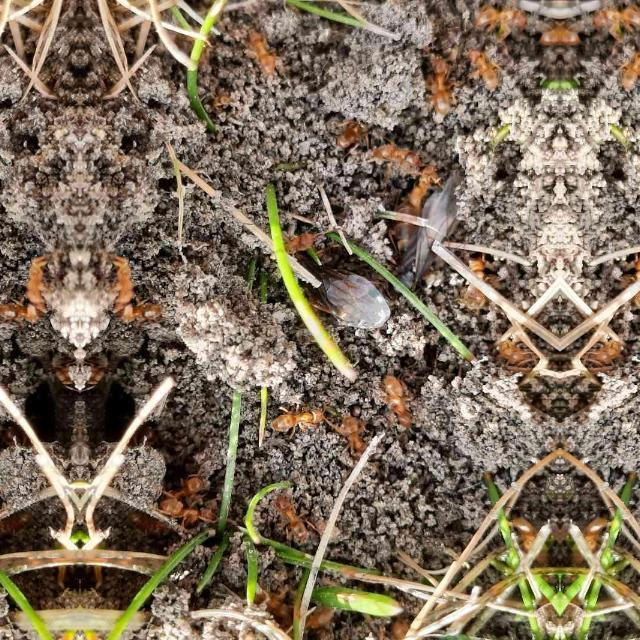Lasius: (290, 240, 396, 328), (258, 396, 328, 444), (375, 371, 421, 434), (270, 489, 316, 546), (458, 248, 498, 310), (262, 218, 318, 260), (237, 24, 281, 70), (110, 294, 164, 330), (492, 332, 540, 370), (578, 332, 626, 370), (467, 42, 501, 94), (164, 466, 206, 508), (425, 42, 455, 98), (336, 411, 372, 457), (0, 294, 48, 328), (29, 246, 56, 306), (160, 497, 212, 528), (102, 246, 128, 306), (406, 160, 438, 208), (618, 247, 640, 310), (466, 5, 522, 29), (616, 42, 640, 94), (372, 134, 416, 160), (596, 5, 640, 29), (541, 18, 559, 52), (559, 18, 577, 52)
